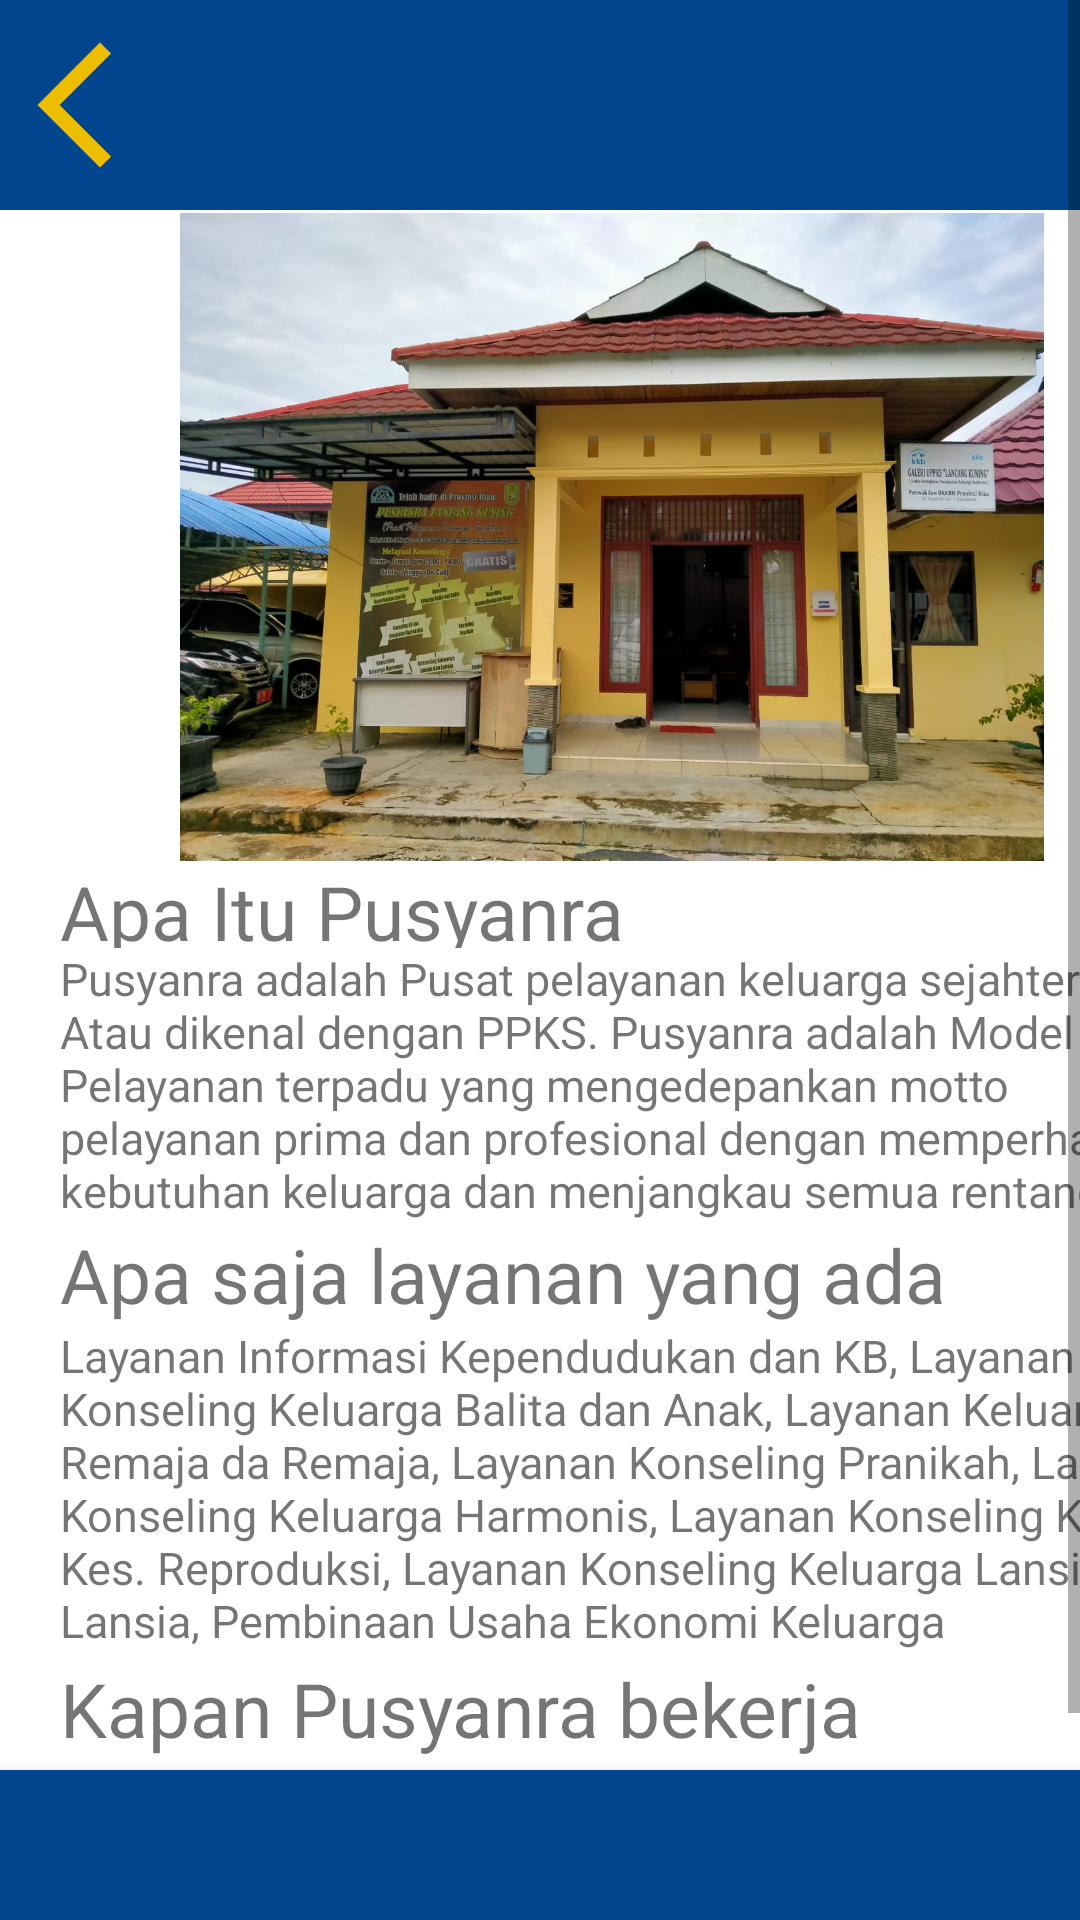

Named icons in this screenshot (1080w x 1920h) and their centers, [x,y]:
arrow back: [74,105]
